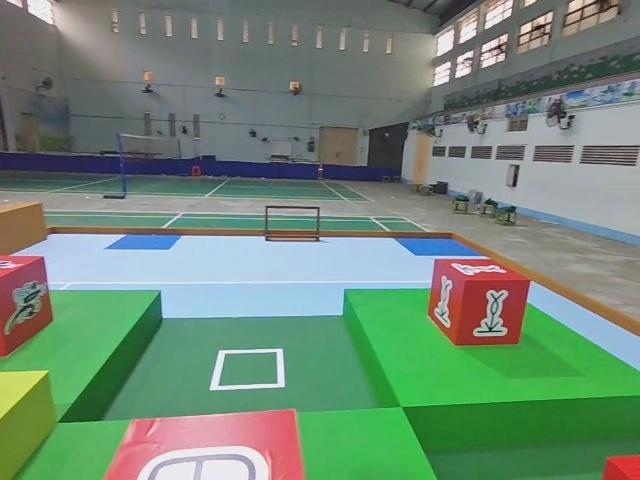R1: (1, 255, 52, 359)
R2 Fake: (101, 407, 300, 480)
R2 Real: (427, 256, 531, 351)
